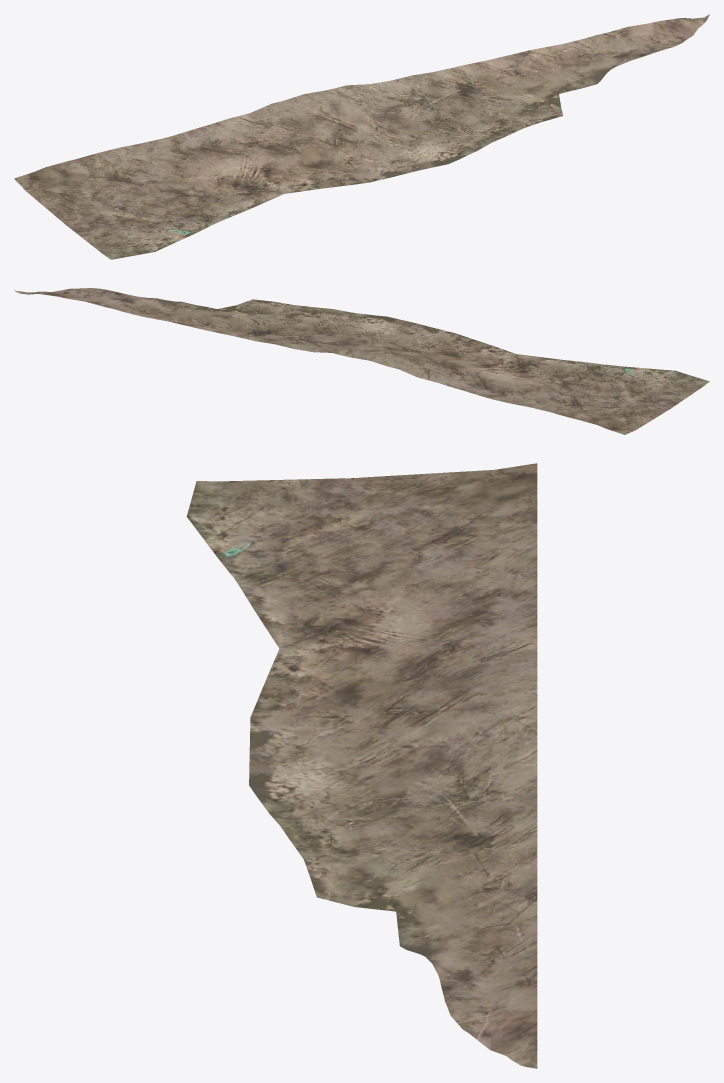
Rendered from CM_Terrain_24490049_6819589.fbx.
3 renders of one model, top to bottom at view 1: azimuth 30°, elevation 25°; view 2: azimuth 150°, elevation 25°; view 3: azimuth 270°, elevation 25°, orthographic. The views are drawn at different scales.
Parts seen in each view (by area): view 1: CM_Terrain_24490049_6819589_LOD0; view 2: CM_Terrain_24490049_6819589_LOD0; view 3: CM_Terrain_24490049_6819589_LOD0.
Boxes of the visible parts, bbox=[...] form: CM_Terrain_24490049_6819589_LOD0: bbox=[14, 14, 709, 259]; CM_Terrain_24490049_6819589_LOD0: bbox=[14, 288, 709, 434]; CM_Terrain_24490049_6819589_LOD0: bbox=[186, 463, 537, 1068].
Size of what is drawn, in the model's own units: 154 by 5.31 by 38.29.
